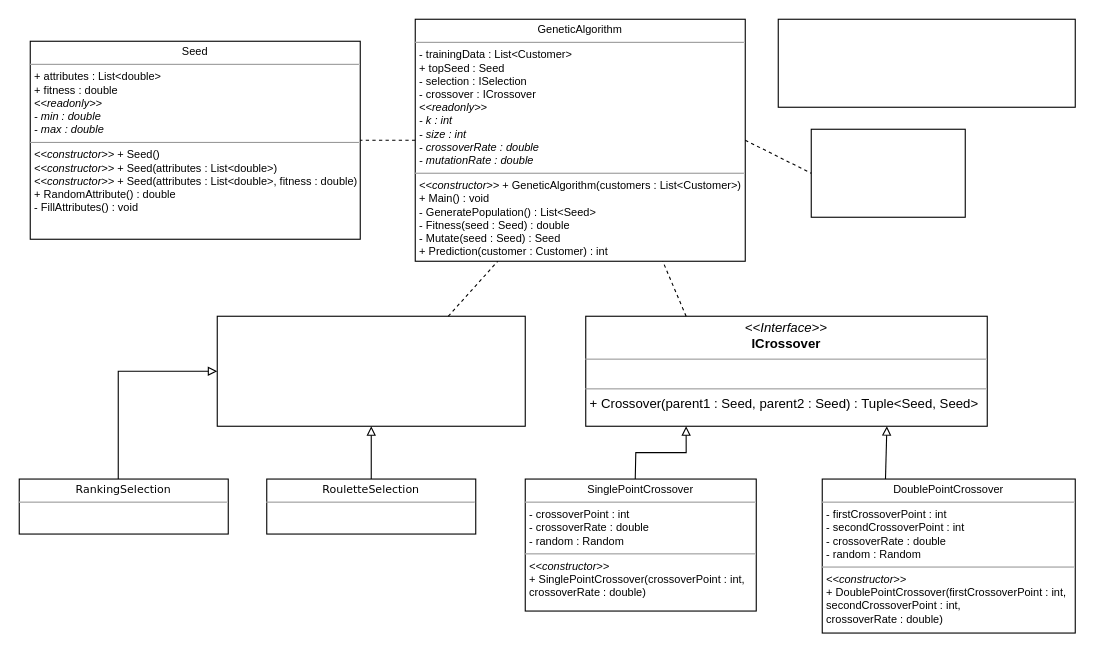
This 1095x652 diagram has some shape labels left out. Each missing label, with the centre of its shape:
"<<Interface>> ISelection + Selection(population : List<Seed>) : List<Seed>" goes at [370,370].
"Customer + attributes : List<double> + pregnant : int" goes at [887,172].
"Parser + Parse(delimiter: char, path: string) : List<Seed>" goes at [926,62].
